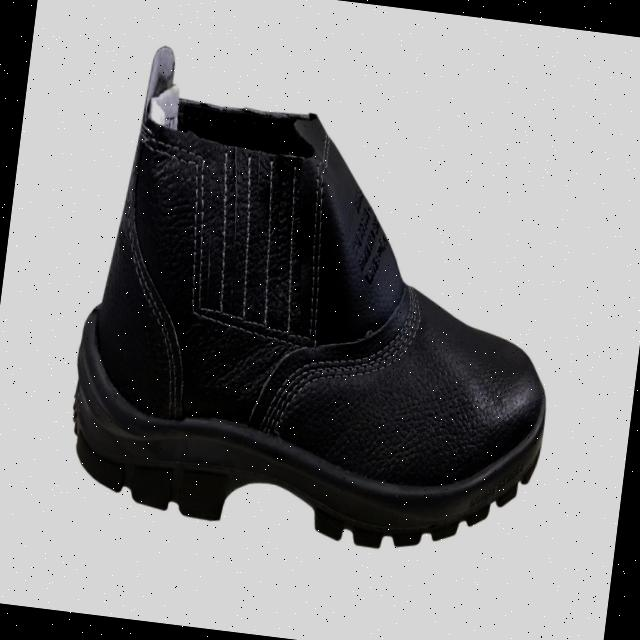BOTA: (60, 41, 551, 562)
